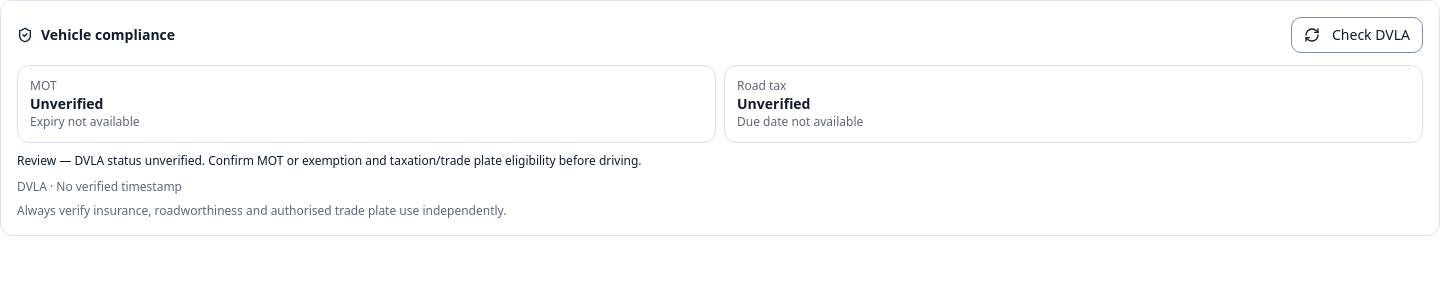
Test: manual pre-pickup compliance › rejects mismatched results
The width and height of the screenshot is (1440, 281).
Click the button "Check DVLA".
click(1357, 35)  # box [1291, 17, 1423, 53]
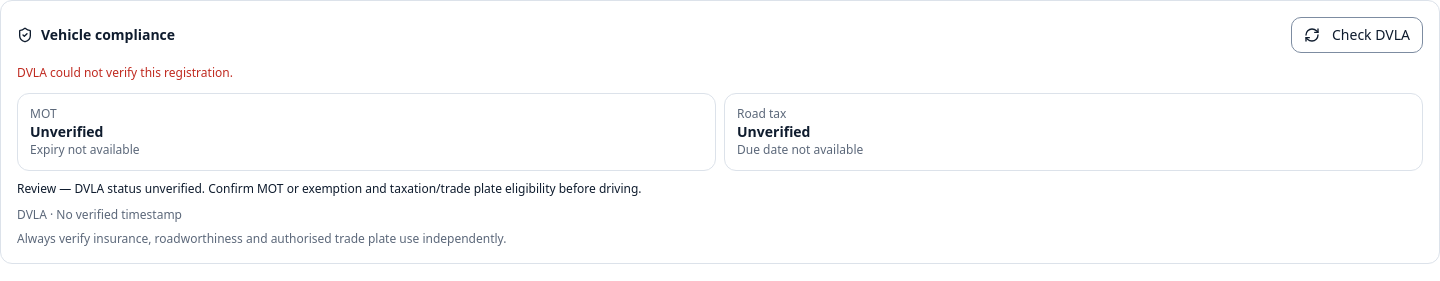
Now the message shows "could not verify", box [17, 64, 233, 81]
